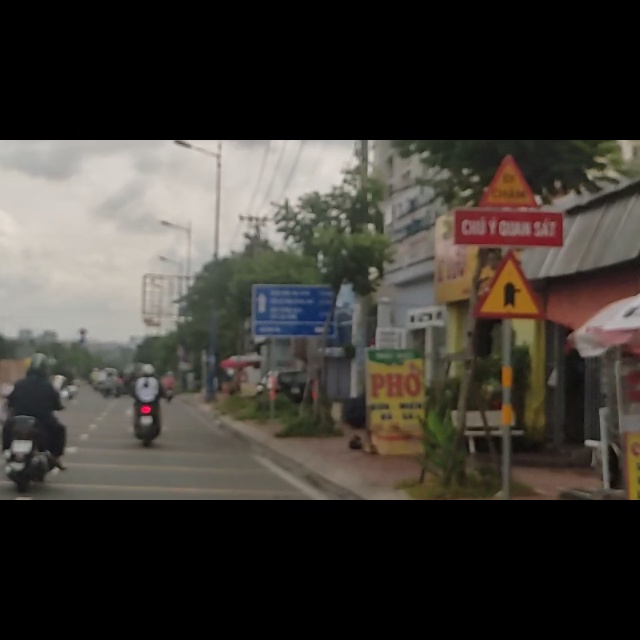bien_hieu_lenh: (472, 194, 539, 318)
